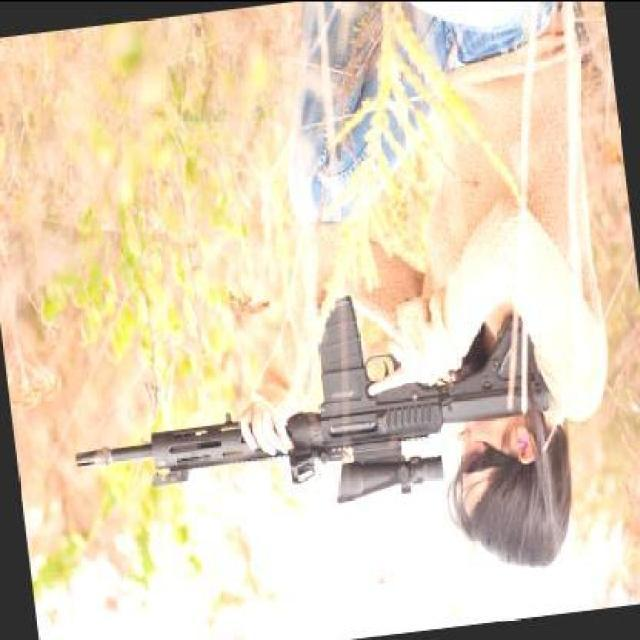rifle: (73, 293, 556, 504)
